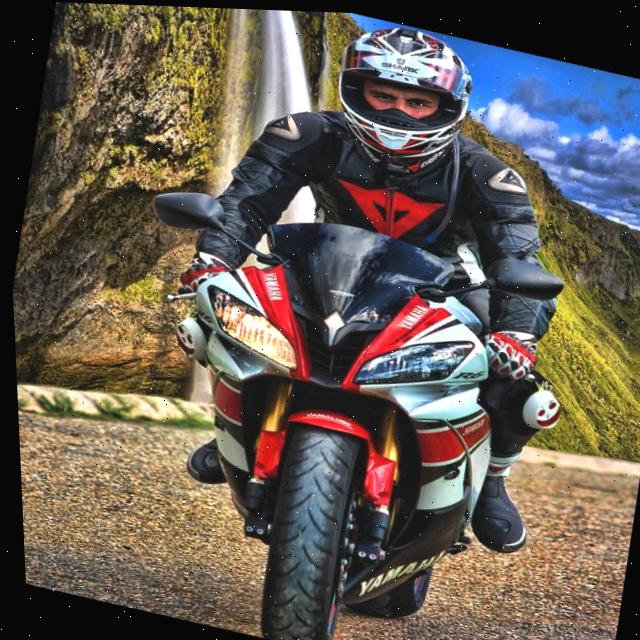motorcycle: (86, 155, 587, 640)
